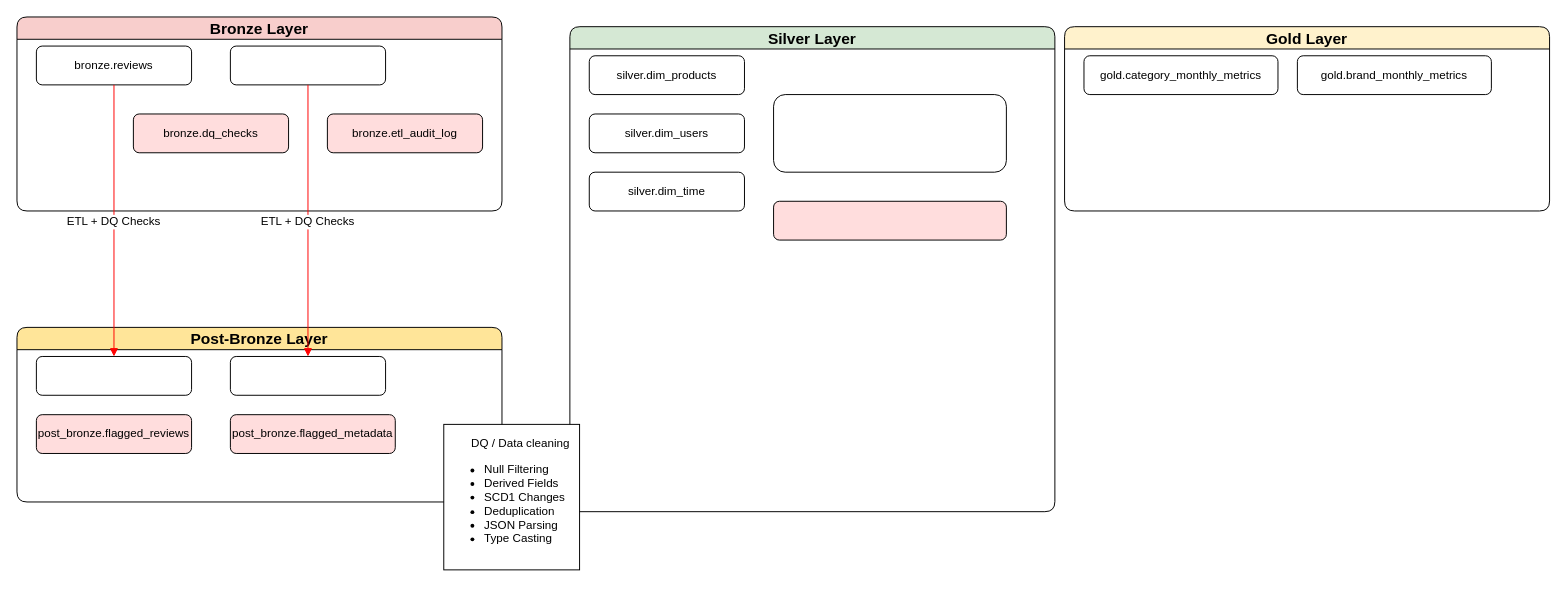
This 1567x589 diagram has some shape labels left out. Here are the shapes that lost their labels. From the top down, the centre of each, then its label:
At point (307, 65): "bronze.metadata".
At point (889, 133): "silver.fact_reviews".
At point (889, 220): "silver.etl_audit_log".
At point (113, 375): "post_bronze.reviews".
At point (307, 375): "post_bronze.metadata".
